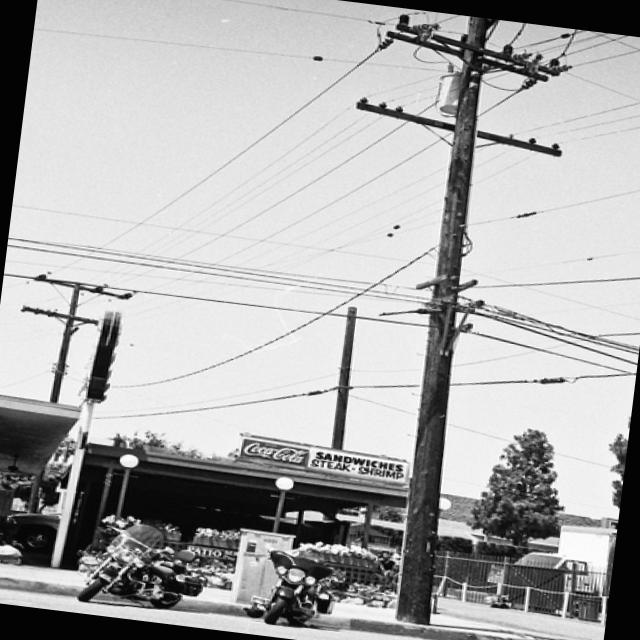Vehicle: (77, 518, 210, 616), (247, 548, 341, 632), (514, 517, 617, 574)
